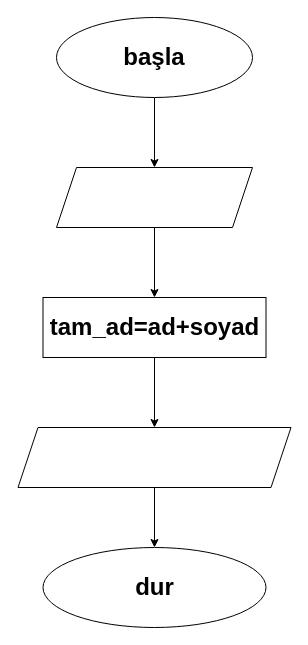
Image size: 308x645. Some labels were removed from this diagram. Here are the shapes that lost their labels. From the top down, the centre of each, then its label:
(x=154, y=197): ad ve soyad bilgisini al
(x=154, y=457): "hoşgeldin"+tam_ad yazdır
